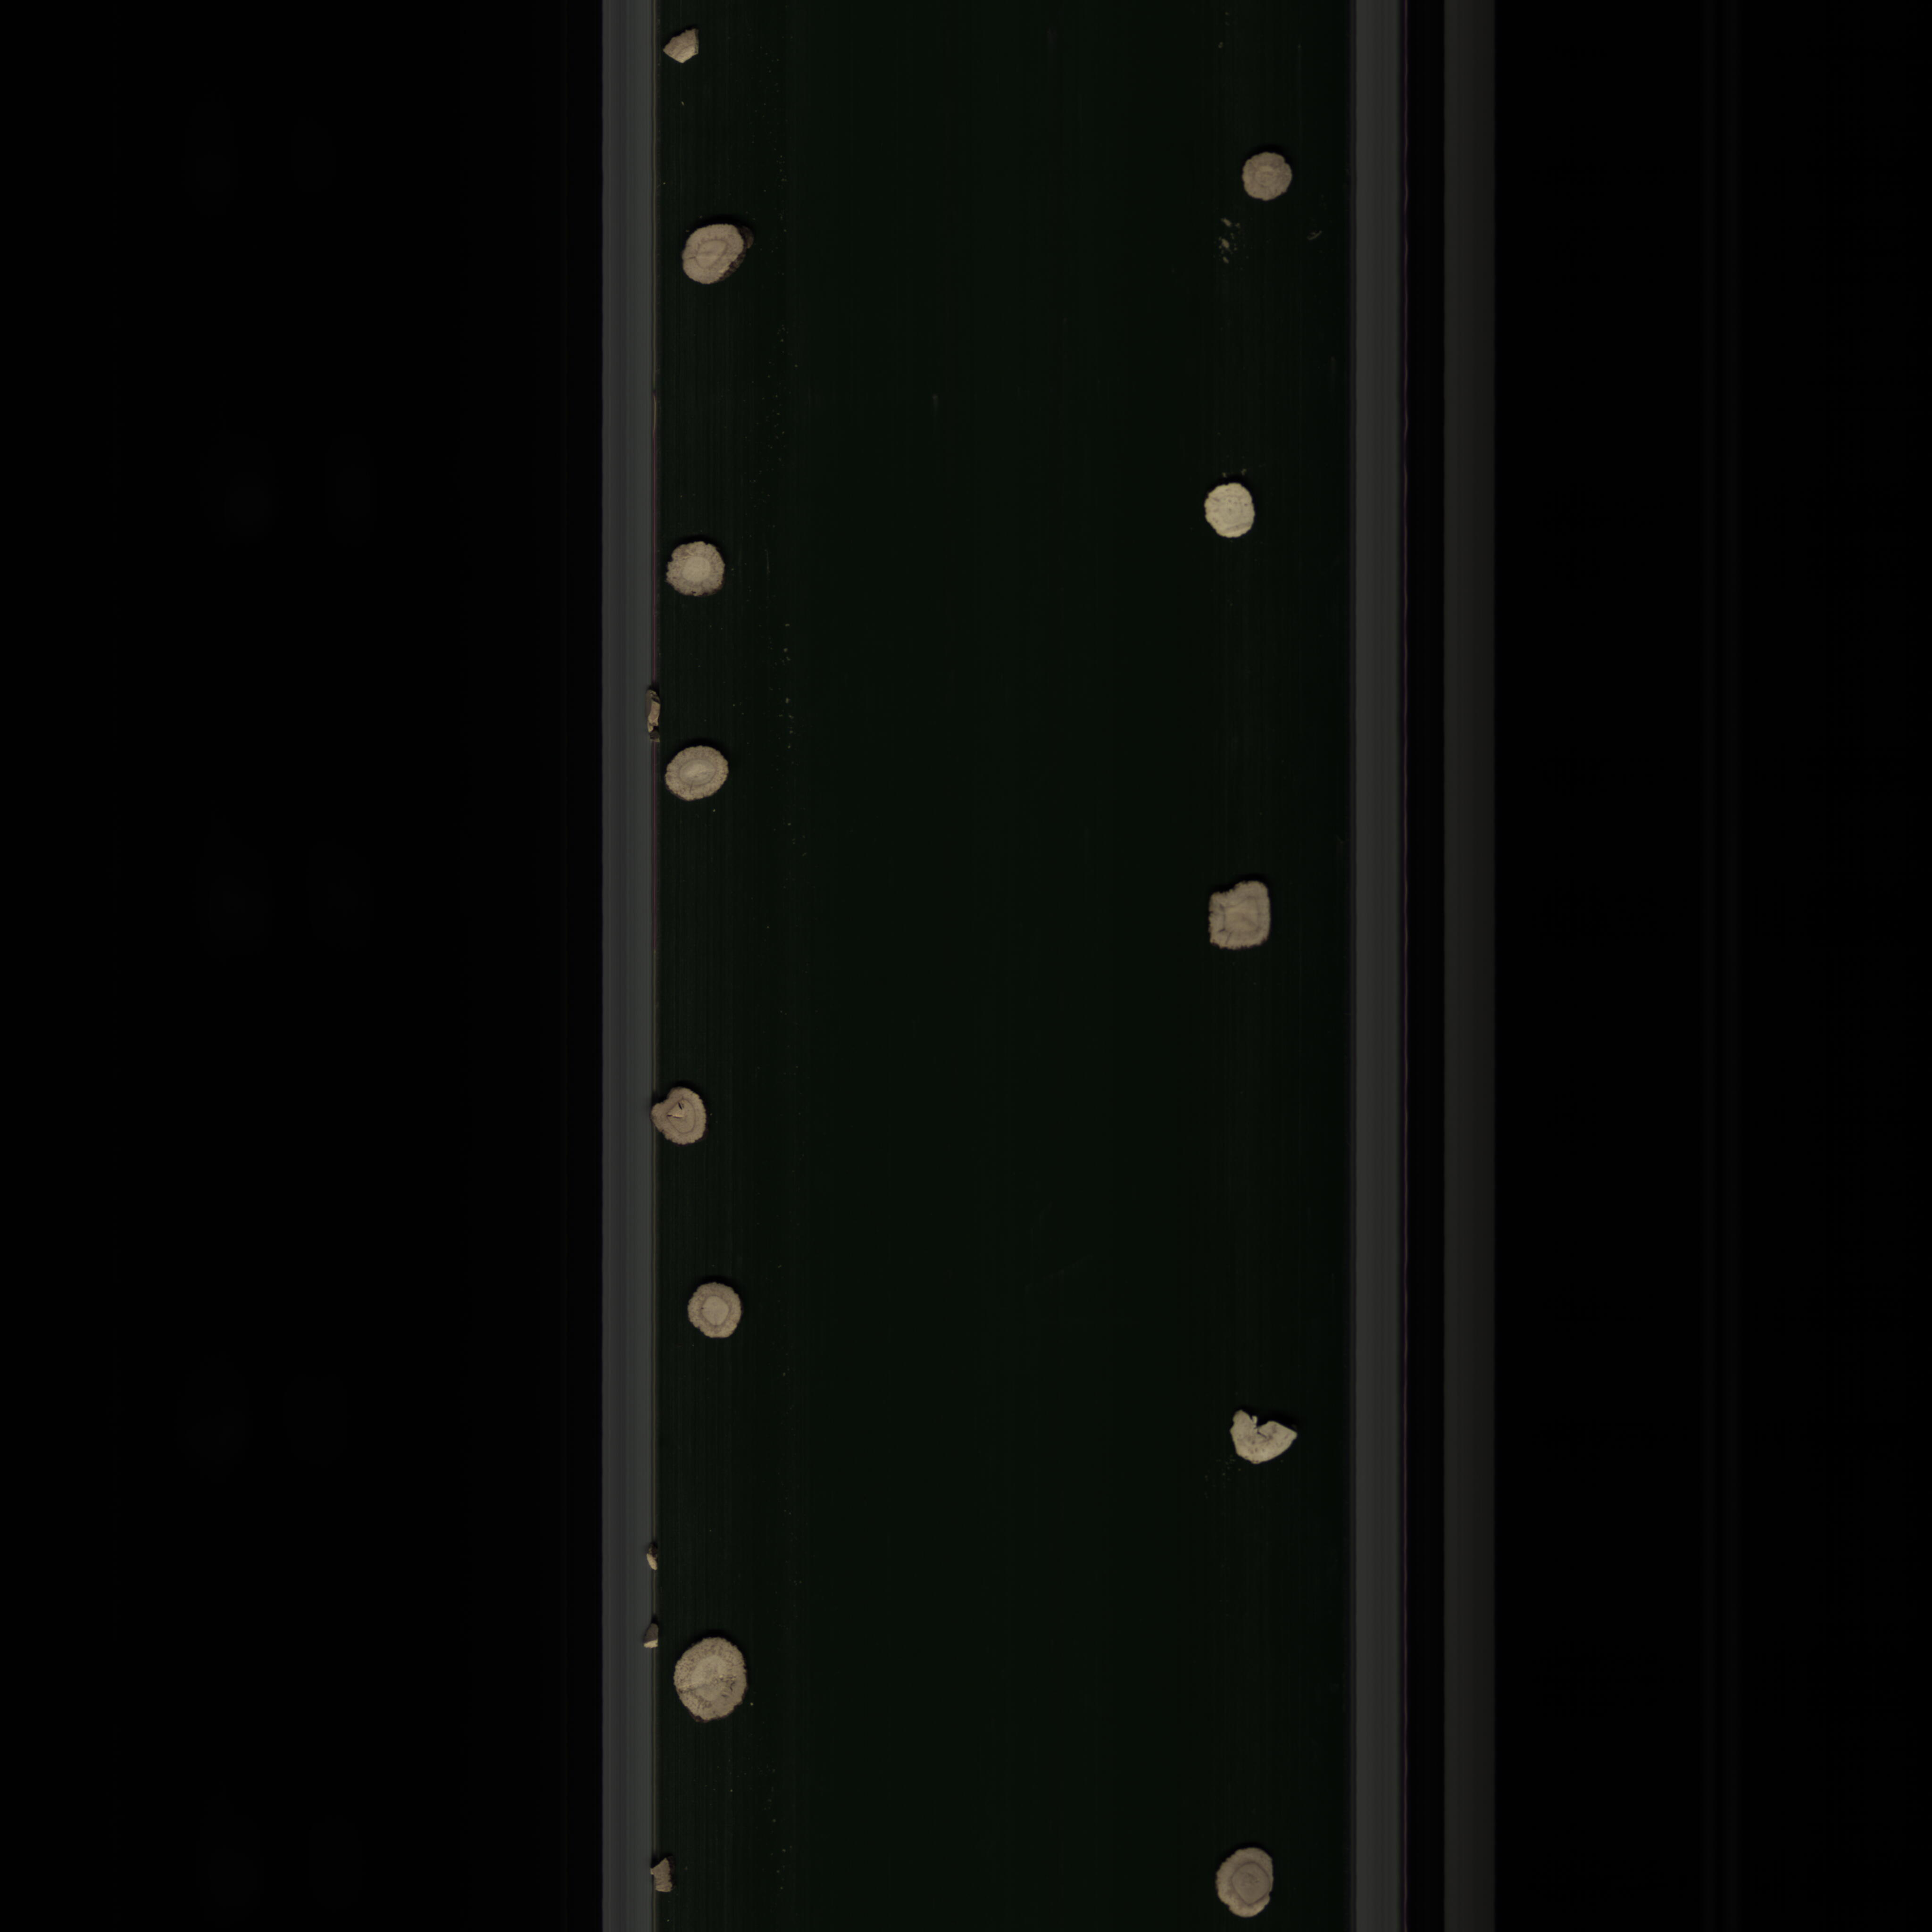debris: (1210, 1394, 1313, 1468), (655, 34, 708, 69)
hole: (655, 1081, 720, 1150)
moldy: (1198, 1817, 1283, 1923)
